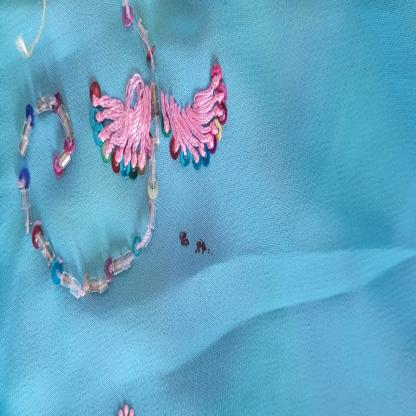spot: (176, 220, 220, 272)
